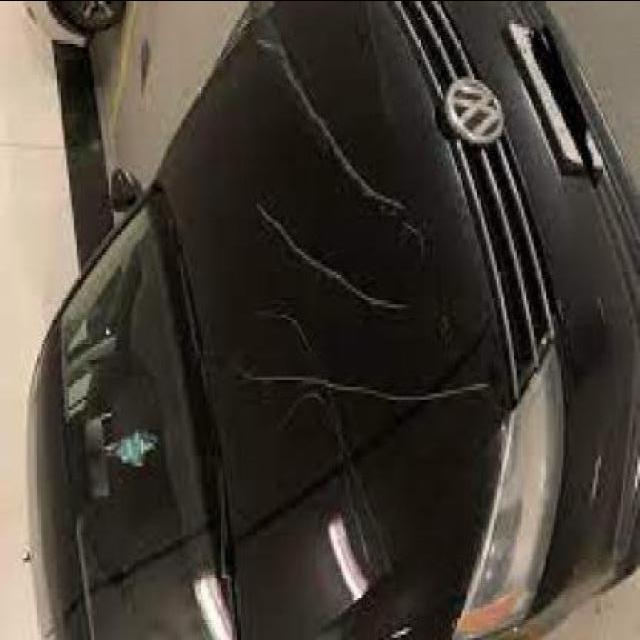bonnet-dent: (192, 3, 506, 640)
